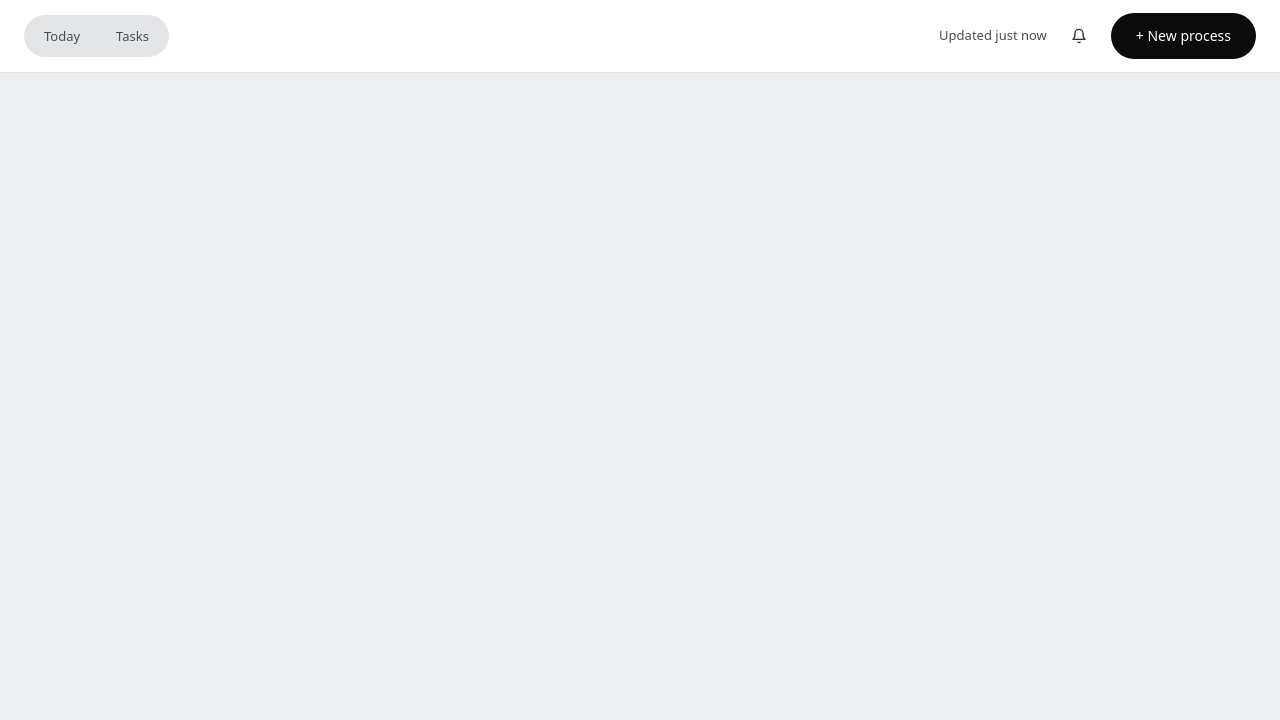
it: the inbox panel at 1280px, English › holds its shape once a digest is expanded
Click the button named "Notifications": click(1079, 36) [1059,12,1099,60]
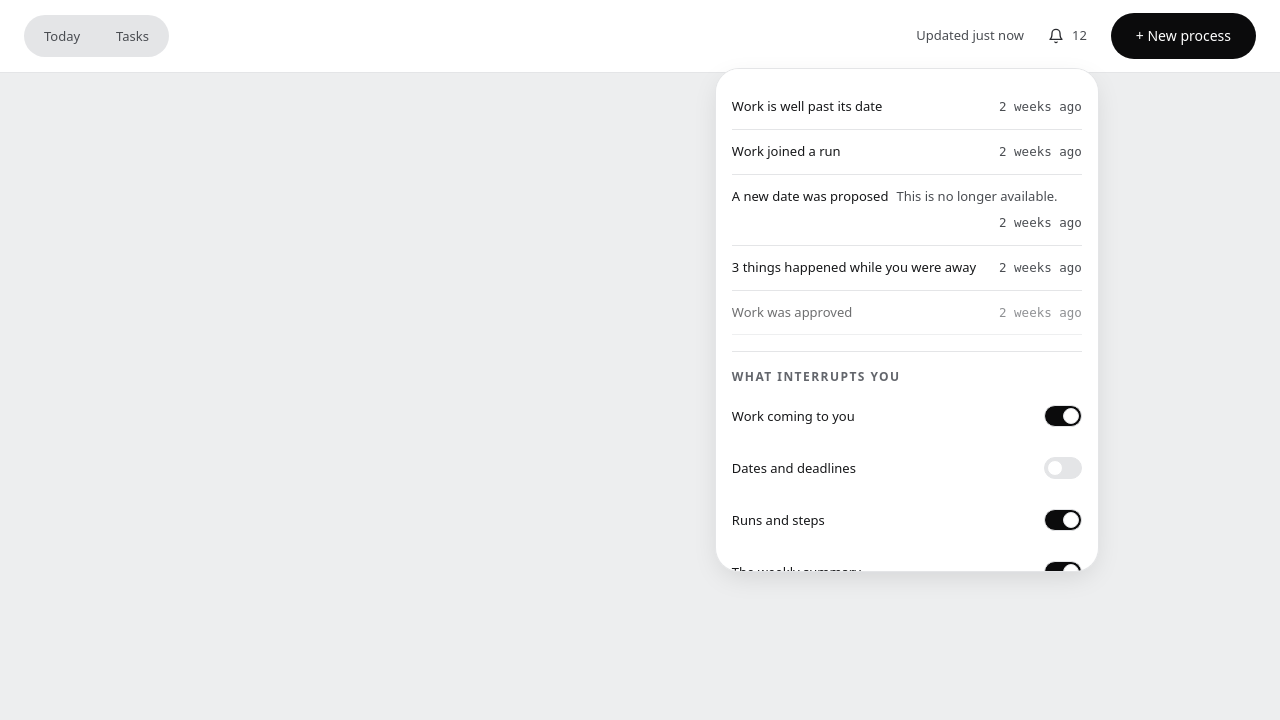
expect the number of list items is 5: met, box [732,85,1082,130]; [732,130,1082,175]; [732,174,1082,246]; [732,246,1082,291]; [732,290,1082,335]
Click the text "3 things happened while you were away": click(854, 268) [732,258,976,277]
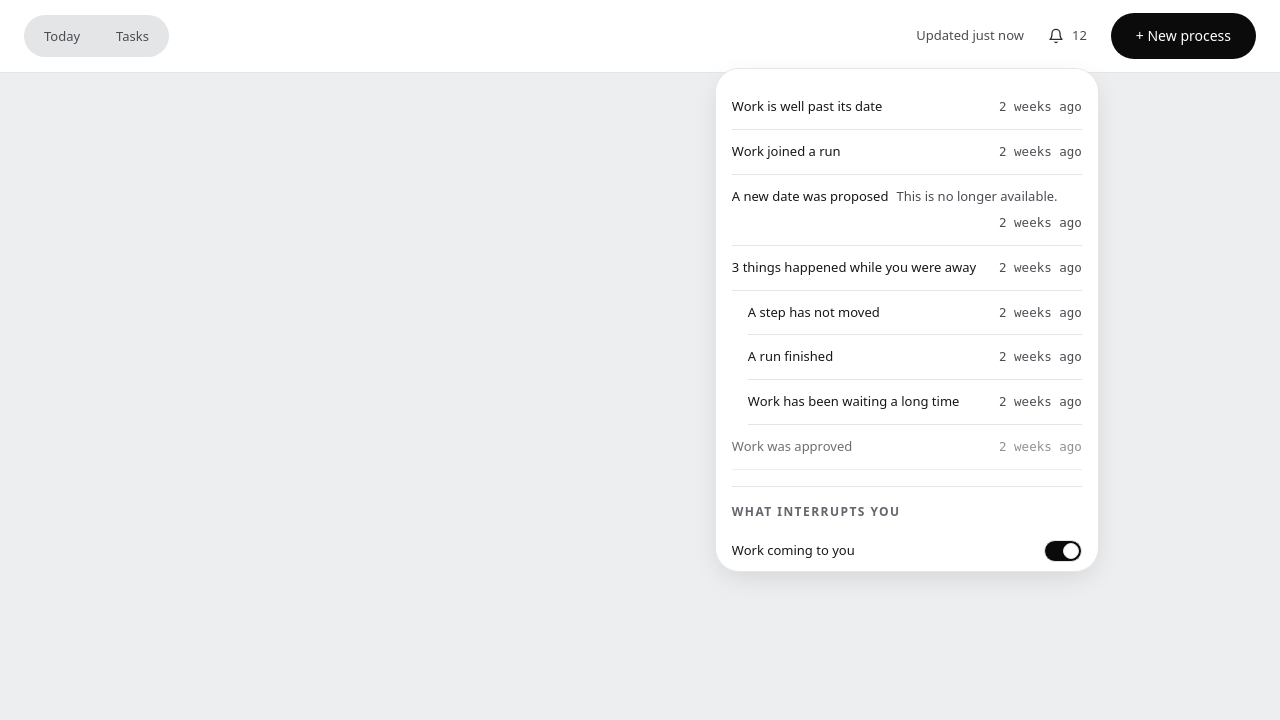
expect the number of list items is 8: met
